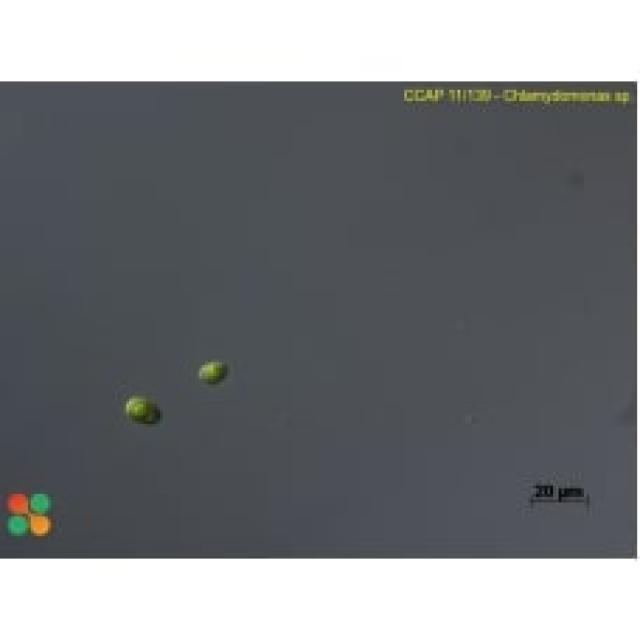Green Algae: (115, 393, 166, 427), (191, 357, 230, 388)
